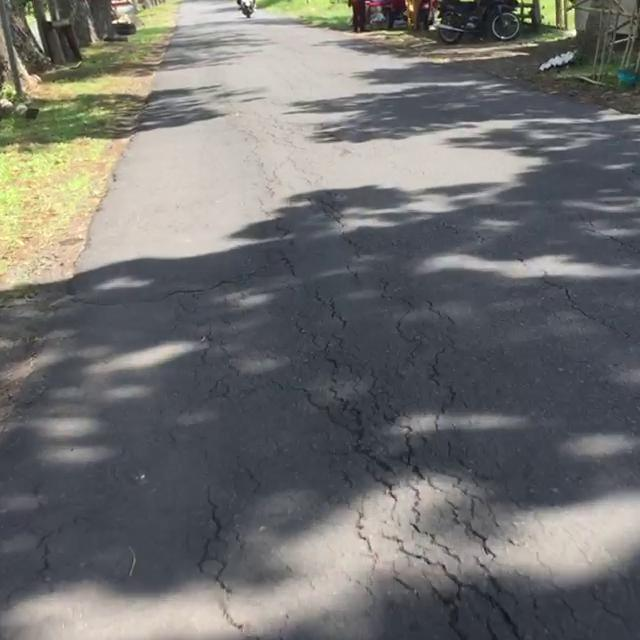retak_kulit_buaya: (258, 260, 552, 640)
